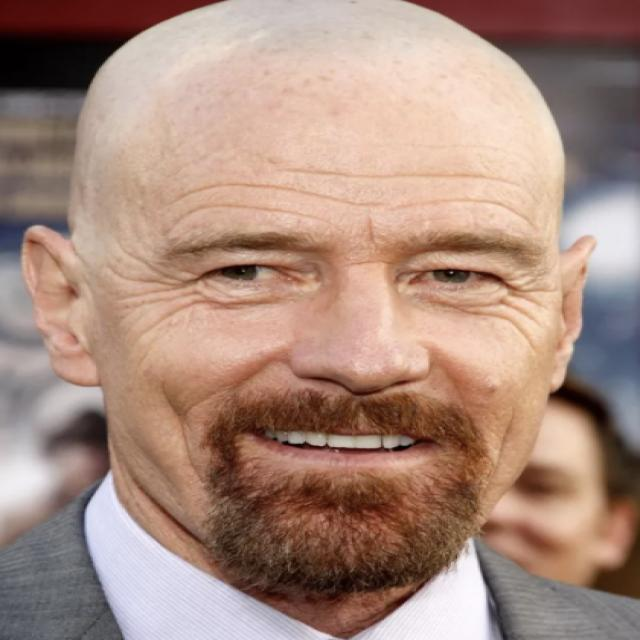happy: (63, 5, 590, 640)
